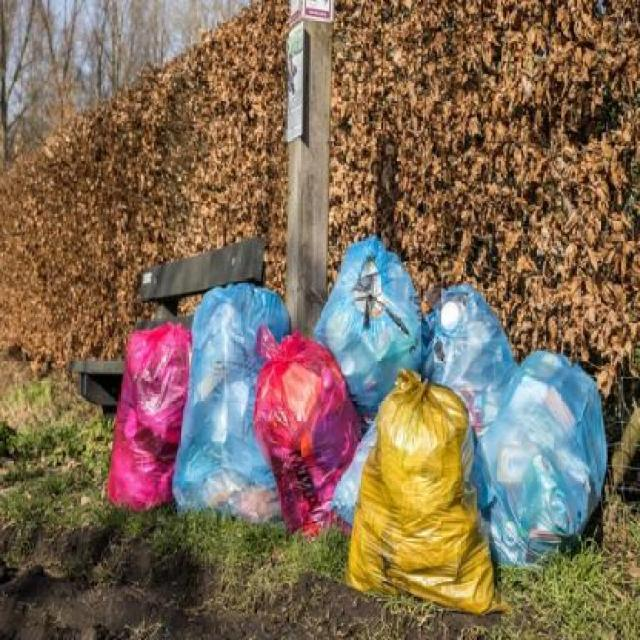high trash: (108, 236, 606, 613)
